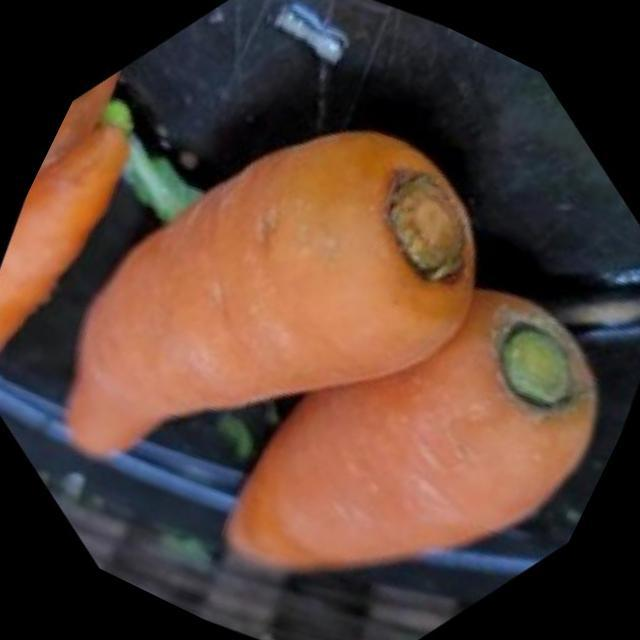carrot: (69, 131, 475, 453), (226, 290, 595, 571), (0, 75, 129, 348)
